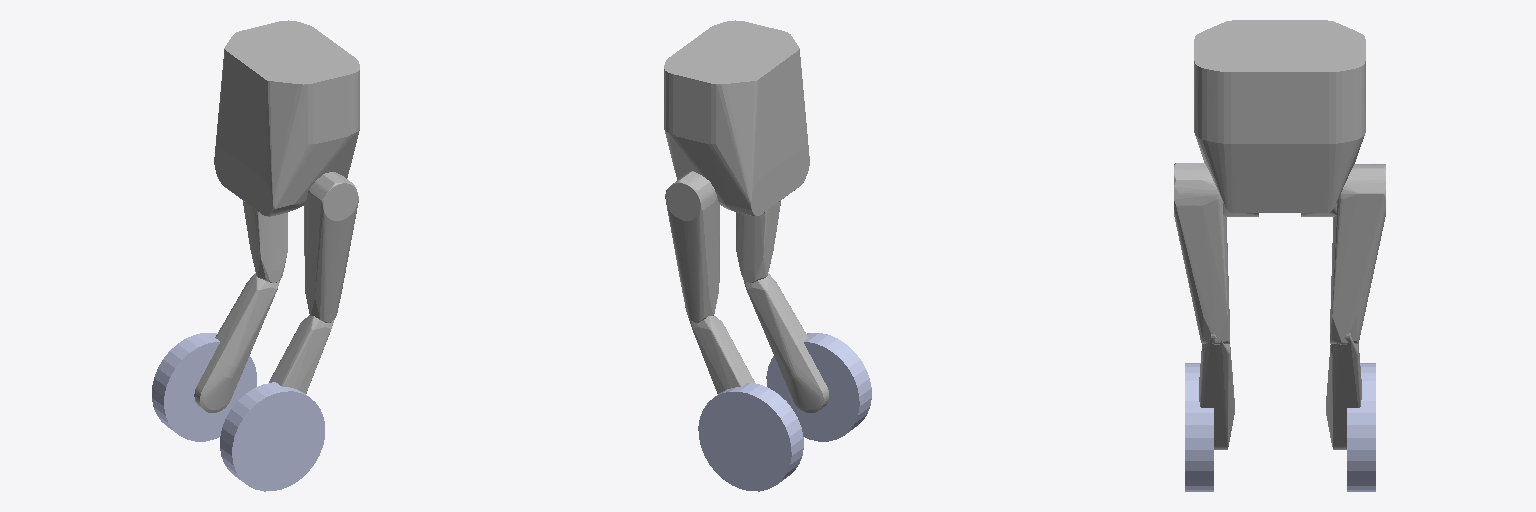
robot.urdf — mini_owheel_learning:
<robot name="mini_owheel_learning">
  <link name="torso">
    <inertial>
      <origin xyz="-0.016818 -0.000737 0.037543" rpy="0 0 0" />
      <mass value="14.481360" />
      <inertia ixx="0.172446" ixy="-0.000378" ixz="0.030596" iyy="0.146211" iyz="0.001862" izz="0.128072" />
    </inertial>
    <visual>
      <origin xyz="0 0 0" rpy="0 0 0" />
      <geometry>
        <mesh filename="../meshes/torso.stl" />
      </geometry>
      <material name="">
        <color rgba="0.752941176470588 0.752941176470588 0.752941176470588 1" />
      </material>
    </visual>
    <collision>
      <origin xyz="0 0 0" rpy="0 0 0" />
      <geometry>
        <mesh filename="../meshes/torso.stl" />
      </geometry>
    </collision>
  </link>
  <link name="lhip">
    <inertial>
      <origin xyz="0.069765 -0.005664 -0.000040" rpy="0 0 0" />
      <mass value="1.411377" />
      <inertia ixx="0.000351" ixy="-0.000006" ixz="-0.000014" iyy="0.000793" iyz="0.000000" izz="0.000688" />
    </inertial>
    <visual>
      <origin xyz="0 0 0" rpy="0 0 0" />
      <geometry>
        <mesh filename="../meshes/lhip.stl" />
      </geometry>
      <material name="">
        <color rgba="0.752941176470588 0.752941176470588 0.752941176470588 1" />
      </material>
    </visual>
    <collision>
      <origin xyz="0 0 0" rpy="0 0 0" />
      <geometry>
        <mesh filename="../meshes/lhip.stl" />
      </geometry>
    </collision>
  </link>
  <joint name="lhiproll" 
    type="fixed">
    <origin xyz="-0.0694982701523154 0.0850001305050424 -0.103336147304858" rpy="0 0 0" />
    <parent link="torso" />
    <child link="lhip" />
    <axis xyz="1 0 0" />
    <limit effort="195" lower="-0.5" upper="0.5" velocity="100"/>
  </joint>
  <link name="lfem">
    <inertial>
      <origin xyz="0.000029 0.039864 -0.053092" rpy="0 0 0" />
      <mass value="1.949872" />
      <inertia ixx="0.019346" ixy="0.000001" ixz="0.000002" iyy="0.018961" iyz="0.002548" izz="0.001330" />
    </inertial>
    <visual>
      <origin xyz="0 0 0" rpy="0 0 0" />
      <geometry>
        <mesh filename="../meshes/lfem.stl" />
      </geometry>
      <material name="">
        <color rgba="0.752941176470588 0.752941176470588 0.752941176470588 1" />
      </material>
    </visual>
    <collision>
      <origin xyz="0 0 0" rpy="0 0 0" />
      <geometry>
        <mesh filename="../meshes/lfem.stl" />
      </geometry>
    </collision>
  </link>
  <joint name="lfempitch" type="revolute">
    <origin xyz="0.0704999999999999 0.0197249999999999 0" rpy="0 0 0" />
    <parent link="lhip" />
    <child link="lfem" />
    <axis xyz="0 -1 0" />
    <limit effort="195" lower="-0.6" upper="0.6" velocity="100"/>
  </joint>
  <link name="ltib">
    <inertial>
      <origin xyz="0.000378 0.004765 -0.218009" rpy="0 0 0" />
      <mass value="1.483930" />
      <inertia ixx="0.014830" ixy="-0.000003" ixz="0.000117" iyy="0.014876" iyz="-0.000494" izz="0.000613" />
    </inertial>
    <visual>
      <origin xyz="0 0 0" rpy="0 0 0" />
      <geometry>
        <mesh filename="../meshes/ltib.stl" />
      </geometry>
      <material name="">
        <color rgba="0.752941176470588 0.752941176470588 0.752941176470588 1" />
      </material>
    </visual>
    <collision>
      <origin xyz="0 0 0" rpy="0 0 0" />
      <geometry>
        <mesh filename="../meshes/ltib.stl" />
      </geometry>
    </collision>
  </link>
  <joint name="ltibpitch" type="revolute">
    <origin xyz="0 0.0162684607647048 -0.3" rpy="0 0 0" />
    <parent link="lfem" />
    <child link="ltib" />
    <axis xyz="0 -1 0" />
    <limit effort="195" lower="-1.0" upper="-0.03" velocity="100"/>
  </joint>
  <link name="lwheel">
    <inertial>
      <origin xyz="-0.000028 0.038529 0.000083" rpy="0 0 0" />
      <mass value="0.882945" />
      <inertia ixx="0.006013" ixy="0.000000" ixz="0.000000" iyy="0.011703" iyz="0.000000" izz="0.006013" />
    </inertial>
    <visual>
      <origin
        xyz="0 0 0"
        rpy="1.57 0 0" />
      <geometry>
        <cylinder radius="0.12" length="0.055"/>
      </geometry>
      <material
        name="">
        <color
          rgba="0.79216 0.81961 0.93333 1" />
      </material>
    </visual>
    <collision>
      <origin
        xyz="0 0 0"
        rpy="1.57 0 0" />
      <geometry>
        <cylinder radius="0.12" length="0.055"/>
      </geometry>
    </collision>
  </link>
  <joint name="lwheelrot" type="revolute">
    <origin xyz="0 0.031149999999988 -0.3" rpy="0 0 0" />
    <parent link="ltib" />
    <child link="lwheel" />
    <axis xyz="0 1 0" />
  </joint>
  <link name="rhip">
    <inertial>
      <origin xyz="0.069787 0.005664 -0.000002" rpy="0 0 0" />
      <mass value="1.411377" />
      <inertia ixx="0.000351" ixy="0.000006" ixz="0.000014" iyy="0.000793" iyz="0.000000" izz="0.000688" />
    </inertial>
    <visual>
      <origin xyz="0 0 0" rpy="0 0 0" />
      <geometry>
        <mesh filename="../meshes/rhip.stl" />
      </geometry>
      <material name="">
        <color rgba="0.752941176470588 0.752941176470588 0.752941176470588 1" />
      </material>
    </visual>
    <collision>
      <origin xyz="0 0 0" rpy="0 0 0" />
      <geometry>
        <mesh filename="../meshes/rhip.stl" />
      </geometry>
    </collision>
  </link>
  <joint name="rhiproll" type="fixed">
    <origin xyz="-0.0694982701523156 -0.0849998694949577 -0.103336147304858" rpy="0 0 0" />
    <parent link="torso" />
    <child link="rhip" />
    <axis xyz="1 0 0" />
    <limit effort="195" lower="-0.5" upper="0.5" velocity="100"/>
  </joint>
  <link name="rfem">
    <inertial>
      <origin xyz="0.000000 -0.039784 -0.053142" rpy="0 0 0" />
      <mass value="1.949872" />
      <inertia ixx="0.019343" ixy="0.000000" ixz="0.000001" iyy="0.018950" iyz="-0.002563" izz="0.001337" />
    </inertial>
    <visual>
      <origin xyz="0 0 0" rpy="0 0 0" />
      <geometry>
        <mesh filename="../meshes/rfem.stl" />
      </geometry>
      <material name="">
        <color rgba="0.752941176470588 0.752941176470588 0.752941176470588 1" />
      </material>
    </visual>
    <collision>
      <origin xyz="0 0 0" rpy="0 0 0" />
      <geometry>
        <mesh filename="../meshes/rfem.stl" />
      </geometry>
    </collision>
  </link>
  <joint name="rfempitch" type="revolute">
    <origin xyz="0.0705 -0.0197249999999999 0" rpy="0 0 0" />
    <parent link="rhip" />
    <child link="rfem" />
    <axis xyz="0 -1 0" />
    <limit effort="195" lower="-0.6" upper="0.6" velocity="100"/>
  </joint>
  <link name="rtib">
    <inertial>
      <origin xyz="0.000328 -0.004765 -0.218009" rpy="0 0 0" />
      <mass value="1.483930" />
      <inertia ixx="0.014830" ixy="0.000003" ixz="0.000123" iyy="0.014876" iyz="0.000495" izz="0.000613" />
    </inertial>
    <visual>
      <origin xyz="0 0 0" rpy="0 0 0" />
      <geometry>
        <mesh filename="../meshes/rtib.stl" />
      </geometry>
      <material name="">
        <color rgba="0.752941176470588 0.752941176470588 0.752941176470588 1" />
      </material>
    </visual>
    <collision>
      <origin xyz="0 0 0" rpy="0 0 0" />
      <geometry>
        <mesh filename="../meshes/rtib.stl" />
      </geometry>
    </collision>
  </link>
  <joint name="rtibpitch" type="revolute">
    <origin xyz="0 -0.0147000000000001 -0.3" rpy="0 0 0" />
    <parent link="rfem" />
    <child link="rtib" />
    <axis xyz="0 -1 0" />
    <limit effort="195" lower="-1.0" upper="-0.03" velocity="100"/>
  </joint>
  <link name="rwheel">
    <inertial>
      <origin xyz="0.000073 -0.038529 -0.000049" rpy="0 0 0" />
      <mass value="0.882945" />
      <inertia ixx="0.006013" ixy="0.000000" ixz="0.000000" iyy="0.011703" iyz="0.000000" izz="0.006013" />
    </inertial>
    <visual>
      <origin
        xyz="0 0 0"
        rpy="1.57 0 0" />
      <geometry>
        <cylinder radius="0.12" length="0.055"/>
      </geometry>
      <material
        name="">
        <color
          rgba="0.79216 0.81961 0.93333 1" />
      </material>
    </visual>
    <collision>
      <origin
        xyz="0 0 0"
        rpy="1.57 0 0" />
      <geometry>
        <cylinder radius="0.12" length="0.055"/>
      </geometry>
    </collision>
  </link>
  <joint name="rwheelrot" type="revolute">
    <origin xyz="0 -0.0311500000000145 -0.3" rpy="0 0 0" />
    <parent link="rtib" />
    <child link="rwheel" />
    <axis xyz="0 1 0" />
  </joint>
</robot>

--- Facts derived from the render (not from the file) ---
Views: 3 orthographic renders of the robot side by side, from view 1: azimuth 30°, elevation 25°; view 2: azimuth 150°, elevation 25°; view 3: azimuth 270°, elevation 25°.
Model mini_owheel_learning with 9 links and 8 joints (6 revolute, 2 fixed), rooted at torso, posed joints at zero except 2 at the middle of their limits (ltibpitch = -0.515, rtibpitch = -0.515).
Visible links, largest first — view 1: torso, rwheel, rfem, lwheel, ltib, rtib, lfem; view 2: torso, lwheel, lfem, rwheel, rtib, ltib, rfem; view 3: torso, rfem, lfem, lwheel, rwheel, ltib, rtib.
Boxes of the visible links, x1,y1,x2,y2 form: torso: [214, 20, 359, 216]; rwheel: [220, 382, 324, 491]; rfem: [304, 172, 358, 322]; lwheel: [152, 333, 256, 441]; ltib: [194, 273, 280, 412]; rtib: [269, 315, 334, 393]; lfem: [243, 201, 287, 282]; torso: [664, 20, 809, 215]; lwheel: [698, 383, 803, 491]; lfem: [665, 171, 719, 322]; rwheel: [766, 333, 871, 441]; rtib: [743, 273, 828, 412]; ltib: [685, 307, 754, 393]; rfem: [736, 201, 780, 282]; torso: [1194, 20, 1365, 212]; rfem: [1174, 163, 1229, 344]; lfem: [1330, 164, 1385, 344]; lwheel: [1347, 363, 1375, 491]; rwheel: [1185, 363, 1213, 491]; ltib: [1326, 333, 1361, 449]; rtib: [1199, 333, 1234, 449].
Bounding box of the posed robot: 0.3669 × 0.3979 × 0.9678 m (x, y, z).
7 mesh visuals loaded from 7 distinct referenced files (7 binary STL).